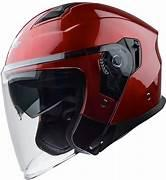Helmet: (7, 2, 161, 178)
